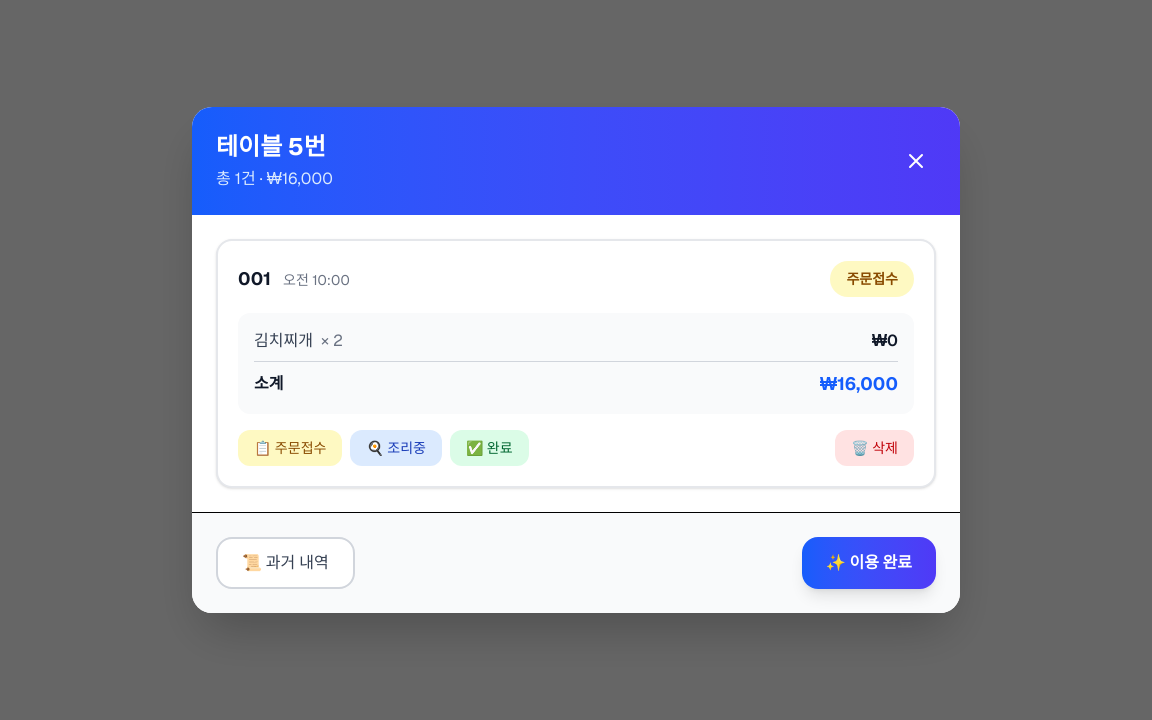
Test: OrderDetailModal › TC-FE2-019: should show complete confirmation
The width and height of the screenshot is (1152, 720).
Click the button with test id "complete-table": click(869, 563) [802, 537, 936, 589]
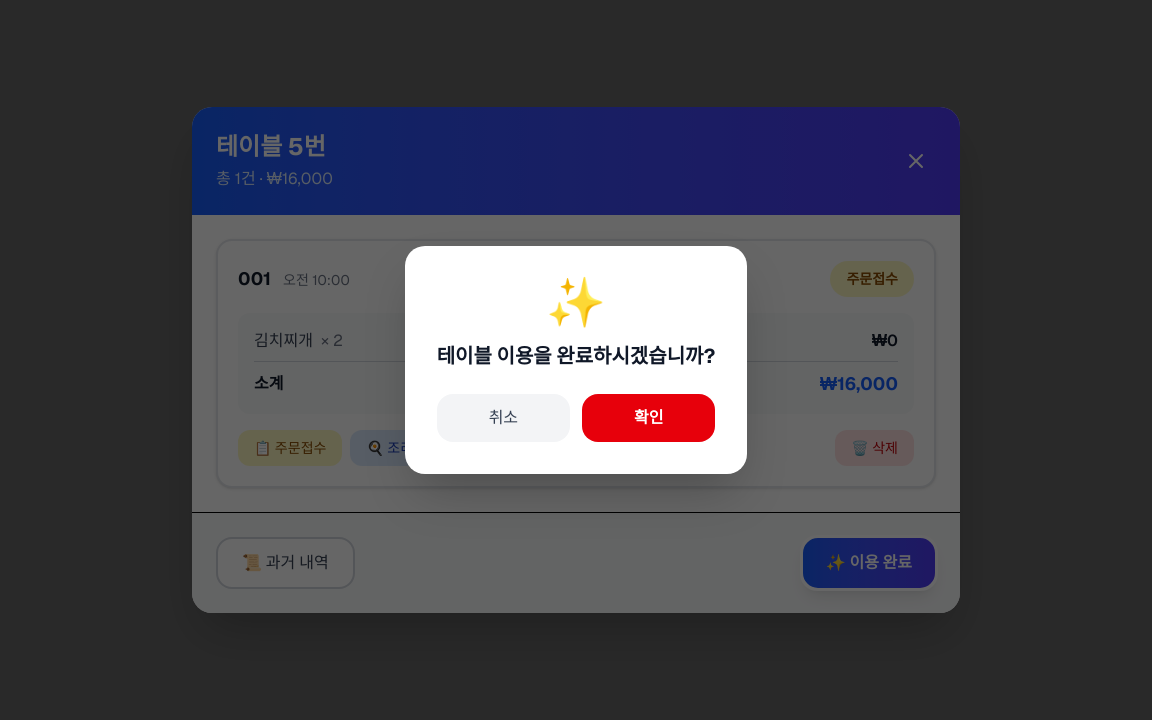
Result: the element with test id "confirm-dialog" is shown
